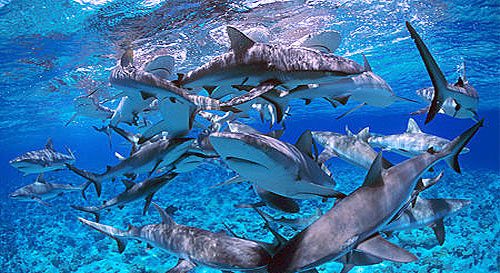Carcharhinus_amblyrhynchos: (55, 38, 489, 270)
